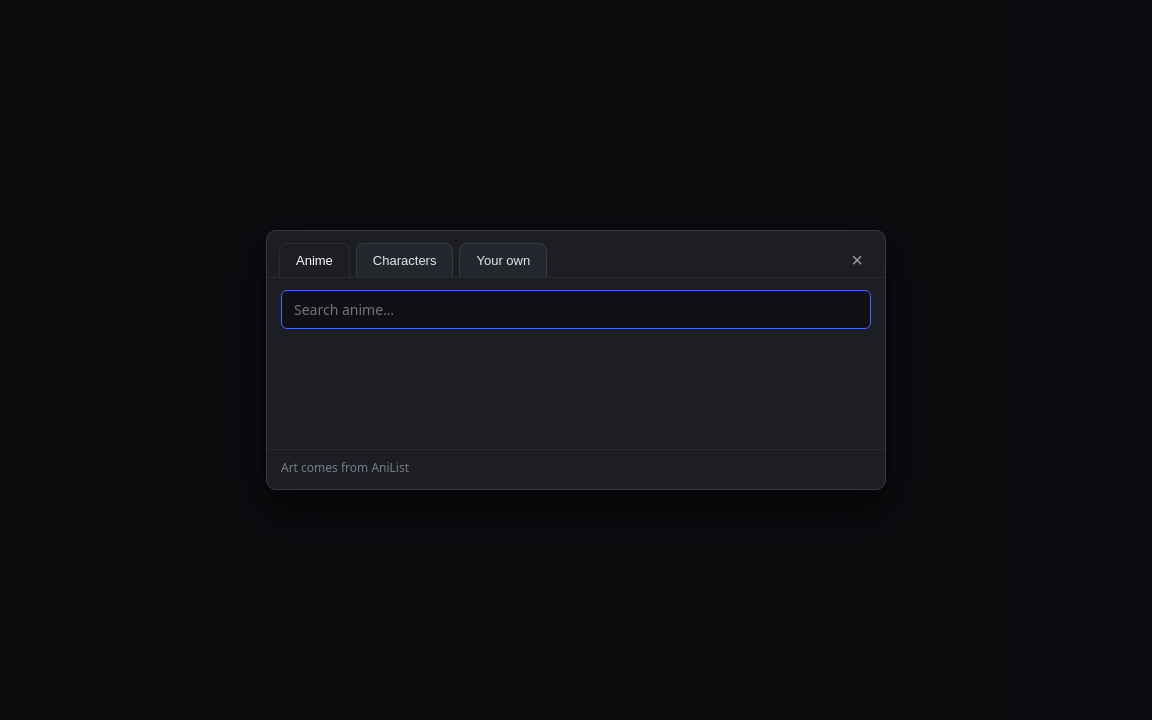
Test case: TilePicker › keeps the upload file input enabled after leaving a search mid-flight
Type "na" into the search field at (576,310), box x1=281 y1=290 x2=871 y2=329
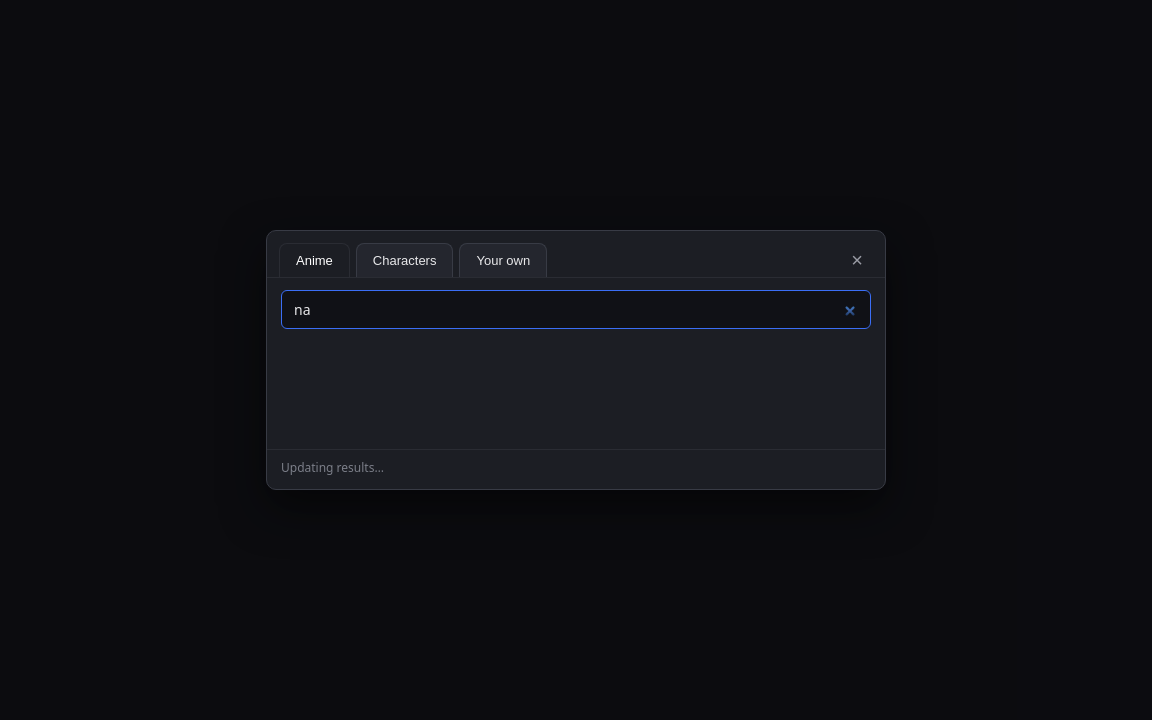
Click the button "Your own" at (503,260), box x1=459 y1=243 x2=547 y2=277
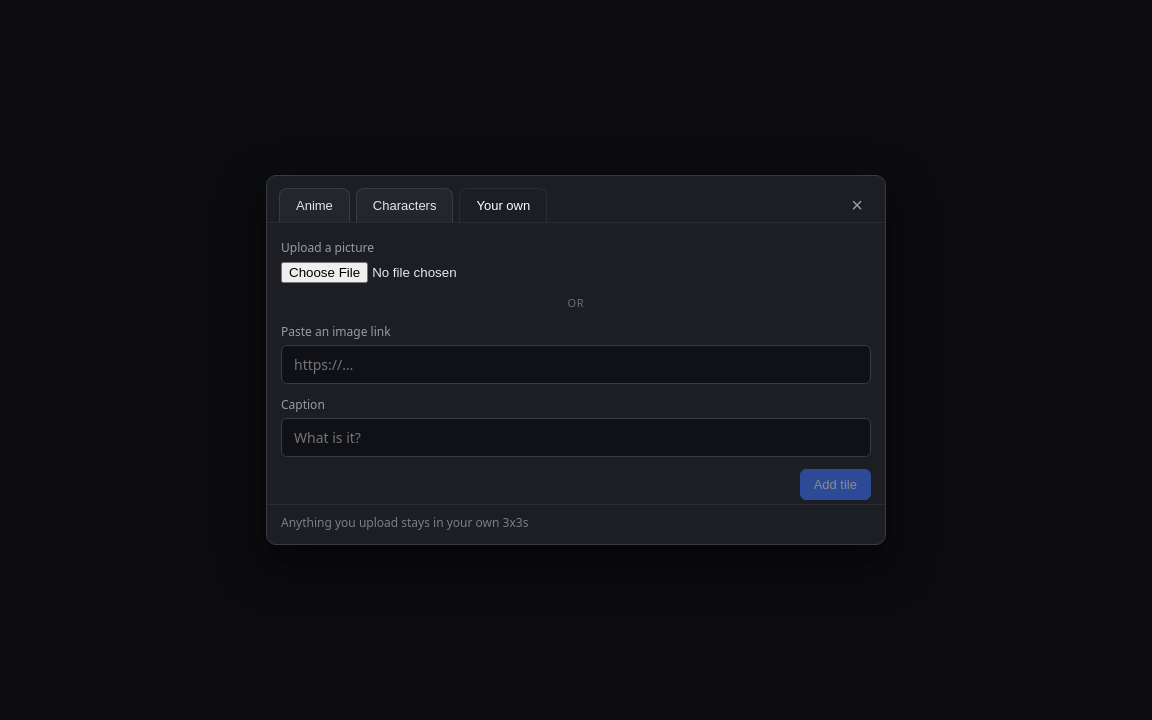
Result: the file field labelled "Upload a picture" is enabled at x1=281 y1=262 x2=871 y2=283
Result: the text "Anything you upload stays in your own 3x3s" is shown at x1=267 y1=504 x2=885 y2=544
